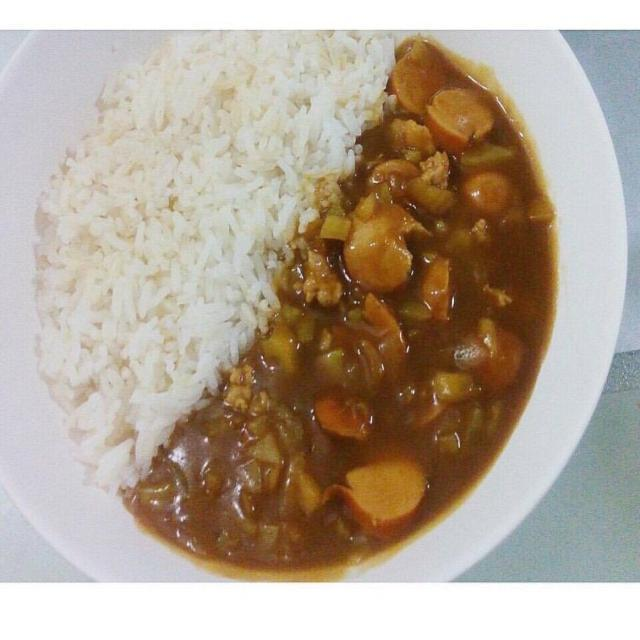cac loai rau cu: (334, 452, 430, 548), (349, 203, 412, 283), (450, 330, 535, 389), (210, 493, 280, 547), (427, 89, 495, 144), (393, 37, 441, 113), (318, 387, 375, 447), (235, 437, 287, 498), (140, 457, 198, 508), (467, 167, 523, 216), (410, 171, 468, 216), (317, 196, 354, 240)
com: (18, 23, 186, 455), (154, 26, 392, 181), (135, 156, 287, 372)
com ca ri: (4, 3, 566, 563)
thit ga: (312, 301, 412, 384), (222, 365, 270, 419), (383, 113, 434, 163), (318, 177, 353, 216), (423, 146, 452, 184)
